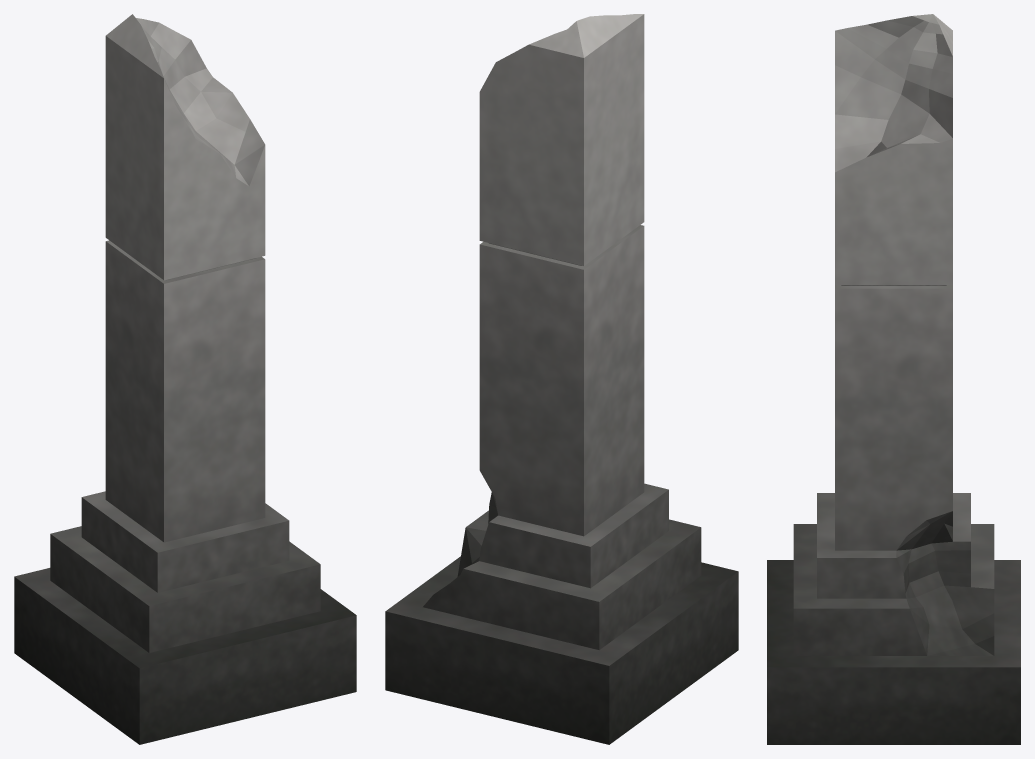
The model's file is Monolito_01.fbx.
The picture shows the model from 3 angles, left to right: view 1: azimuth 30°, elevation 25°; view 2: azimuth 150°, elevation 25°; view 3: azimuth 270°, elevation 25°; orthographic projection. The views are drawn at different scales.
Parts seen in each view (by area): view 1: Cube.001; view 2: Cube.001; view 3: Cube.001.
Part boxes in pixels (x1=…): Cube.001: x1=14, y1=14, x2=356, y2=744; Cube.001: x1=385, y1=14, x2=738, y2=744; Cube.001: x1=767, y1=14, x2=1020, y2=744.
Size of the model in its own units: 3 by 8.61 by 3.
